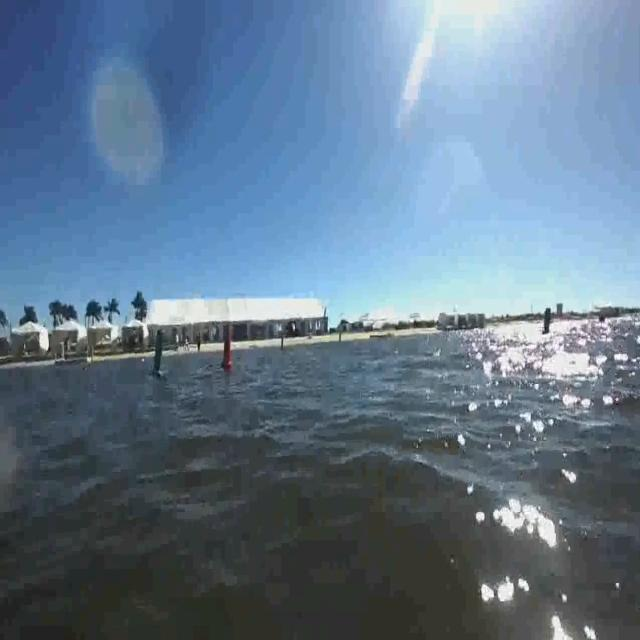green-column-buoy: (149, 330, 166, 377)
red-column-buoy: (220, 326, 235, 370)
